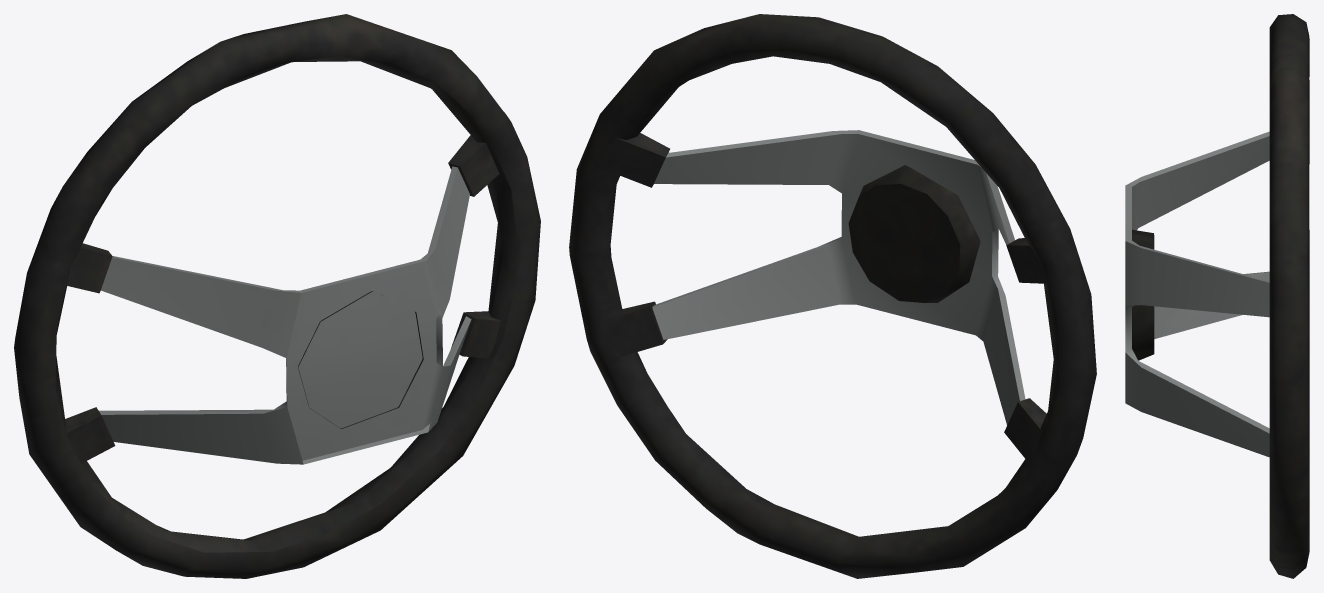
File: arcadecase6bc.fbx
The picture shows the model from 3 angles, left to right: view 1: azimuth 30°, elevation 25°; view 2: azimuth 150°, elevation 25°; view 3: azimuth 270°, elevation 25°; orthographic projection. The views are drawn at different scales.
Parts seen in each view (by area): view 1: MOD_SM_ArcadeCab_06bc.001; view 2: MOD_SM_ArcadeCab_06bc.001; view 3: MOD_SM_ArcadeCab_06bc.001.
Boxes of the visible parts, box(x1,y1,x2,y2) form: MOD_SM_ArcadeCab_06bc.001: box(14, 14, 540, 578); MOD_SM_ArcadeCab_06bc.001: box(569, 14, 1096, 578); MOD_SM_ArcadeCab_06bc.001: box(1125, 14, 1309, 578).
Bounding box in the file's own units: 2697 × 2681 × 879.
